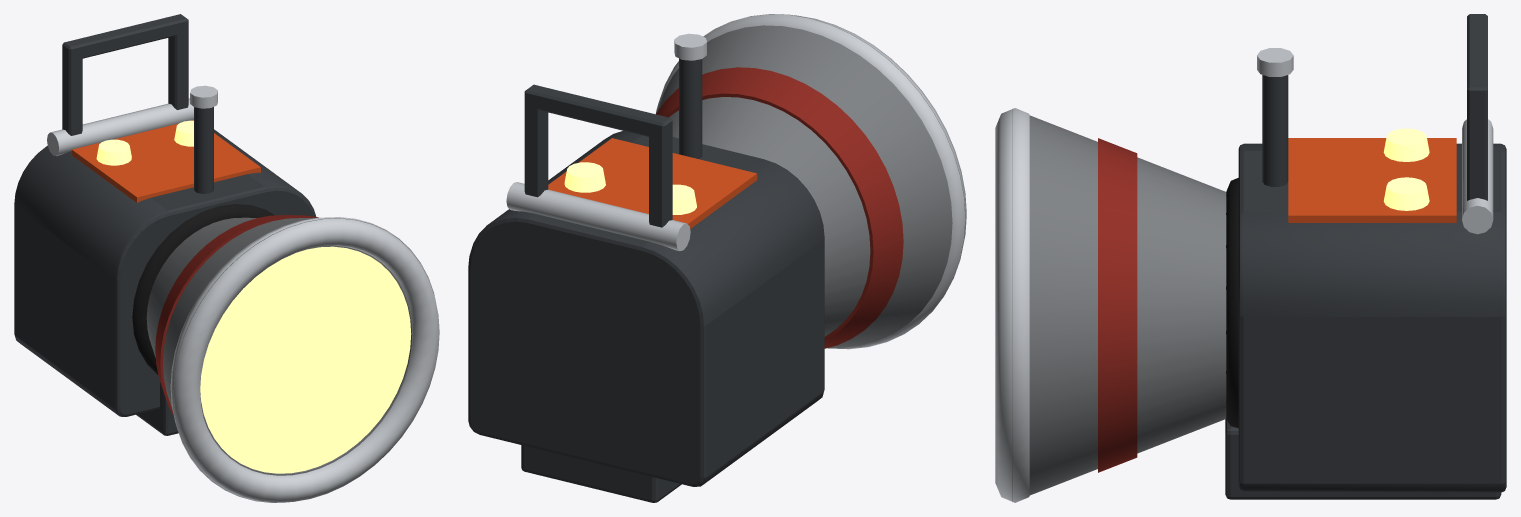
File: gauntlet_ruin_scanner.fbx
The picture shows the model from 3 angles, left to right: view 1: azimuth 30°, elevation 25°; view 2: azimuth 150°, elevation 25°; view 3: azimuth 270°, elevation 25°; orthographic projection. The views are drawn at different scales.
Visible parts, largest first — view 1: Mesh_RuinScanner_Lens, Mesh_RuinScanner_Housing, Mesh_RuinScanner_Bezel, Mesh_RuinScanner_SightFrame, Mesh_RuinScanner_Horn, Mesh_RuinScanner_Panel, Mesh_RuinScanner_Boot, Mesh_RuinScanner_Stripe, Mesh_RuinScanner_SightPost, Mesh_RuinScanner_Lamps, Mesh_RuinScanner_Bed; view 2: Mesh_RuinScanner_Housing, Mesh_RuinScanner_Horn, Mesh_RuinScanner_Stripe, Mesh_RuinScanner_SightFrame, Mesh_RuinScanner_Bezel, Mesh_RuinScanner_Panel, Mesh_RuinScanner_Bed, Mesh_RuinScanner_SightPost, Mesh_RuinScanner_Lamps; view 3: Mesh_RuinScanner_Housing, Mesh_RuinScanner_Horn, Mesh_RuinScanner_Bezel, Mesh_RuinScanner_Stripe, Mesh_RuinScanner_Panel, Mesh_RuinScanner_SightFrame, Mesh_RuinScanner_SightPost, Mesh_RuinScanner_Boot, Mesh_RuinScanner_Bed, Mesh_RuinScanner_Lamps.
Part boxes in pixels (x1,y1,x2,y2): Mesh_RuinScanner_Lens: (200, 246, 411, 473); Mesh_RuinScanner_Housing: (14, 129, 315, 416); Mesh_RuinScanner_Bezel: (170, 217, 439, 502); Mesh_RuinScanner_SightFrame: (47, 14, 193, 155); Mesh_RuinScanner_Horn: (146, 217, 434, 502); Mesh_RuinScanner_Panel: (72, 120, 260, 202); Mesh_RuinScanner_Boot: (132, 204, 274, 374); Mesh_RuinScanner_Stripe: (155, 215, 318, 415); Mesh_RuinScanner_SightPost: (190, 85, 217, 193); Mesh_RuinScanner_Lamps: (96, 120, 193, 165); Mesh_RuinScanner_Bed: (136, 382, 178, 435); Mesh_RuinScanner_Housing: (468, 130, 824, 486); Mesh_RuinScanner_Horn: (657, 14, 965, 347); Mesh_RuinScanner_Stripe: (656, 67, 903, 348); Mesh_RuinScanner_SightFrame: (506, 84, 690, 250); Mesh_RuinScanner_Bezel: (655, 14, 966, 349); Mesh_RuinScanner_Panel: (548, 138, 757, 228); Mesh_RuinScanner_Bed: (521, 445, 681, 502); Mesh_RuinScanner_SightPost: (674, 33, 706, 158); Mesh_RuinScanner_Lamps: (564, 162, 696, 214); Mesh_RuinScanner_Housing: (1238, 143, 1506, 492); Mesh_RuinScanner_Horn: (1012, 109, 1226, 501); Mesh_RuinScanner_Bezel: (995, 108, 1029, 502); Mesh_RuinScanner_Stripe: (1098, 138, 1137, 472); Mesh_RuinScanner_Panel: (1288, 138, 1456, 222); Mesh_RuinScanner_SightFrame: (1462, 14, 1493, 234); Mesh_RuinScanner_SightPost: (1257, 48, 1293, 186); Mesh_RuinScanner_Boot: (1226, 178, 1238, 428); Mesh_RuinScanner_Bed: (1225, 419, 1501, 499); Mesh_RuinScanner_Lamps: (1383, 128, 1429, 210).
Bounding box in the file's own units: 30.1 × 36.45 × 38.9.
